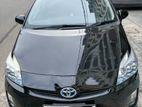car: (6, 0, 139, 107)
